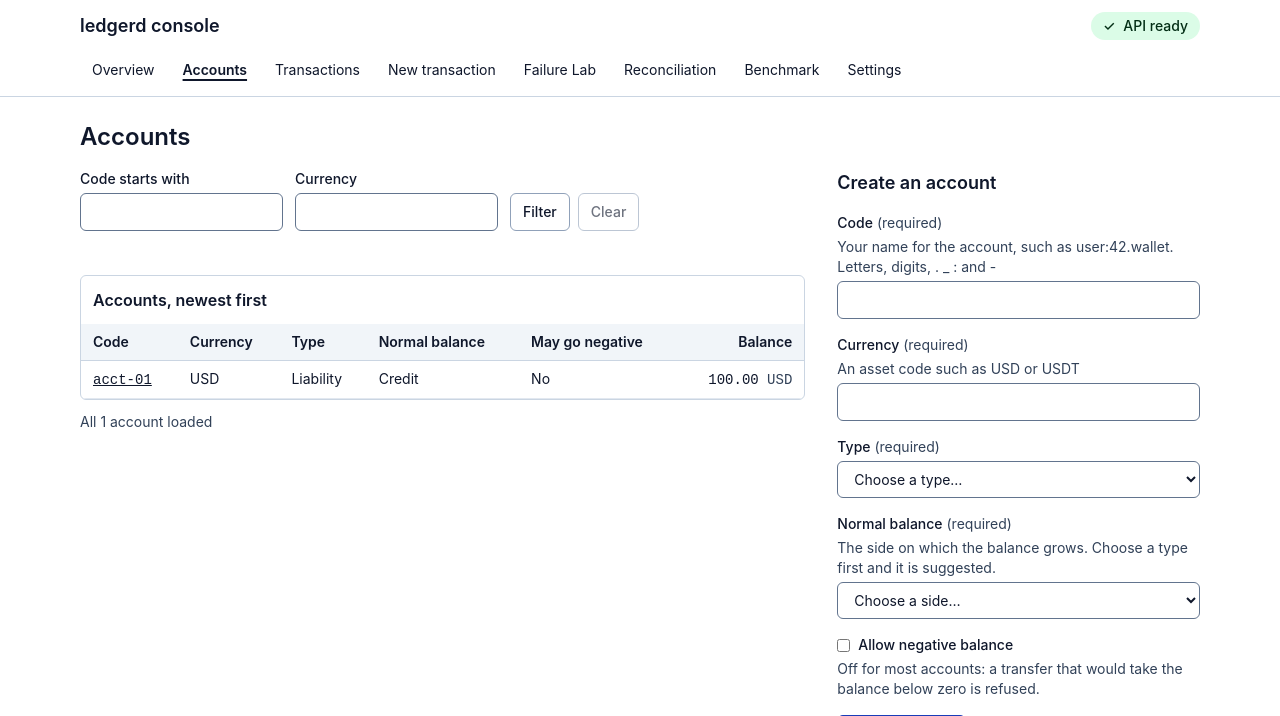
Test case: the account form › creating › sends exactly what was entered, then shows the account, and offers to open it
Expected: the heading "Accounts" is shown, [80, 121, 190, 153]
Expected: the table is shown, [81, 276, 804, 399]
Type "user:42.wallet" into the field labelled "Code (required)" at (1019, 300), box [837, 281, 1200, 319]
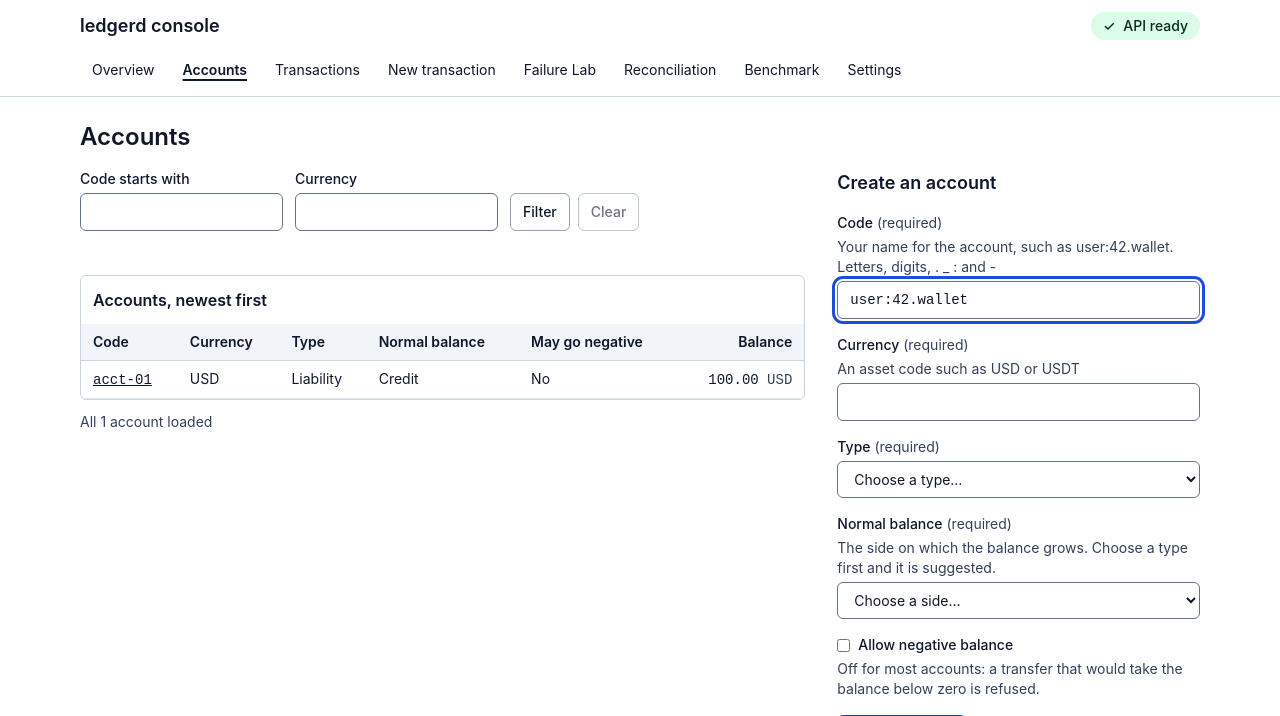
Type "usd" into the field labelled "Currency (required)" at (1019, 402), box [837, 383, 1200, 421]
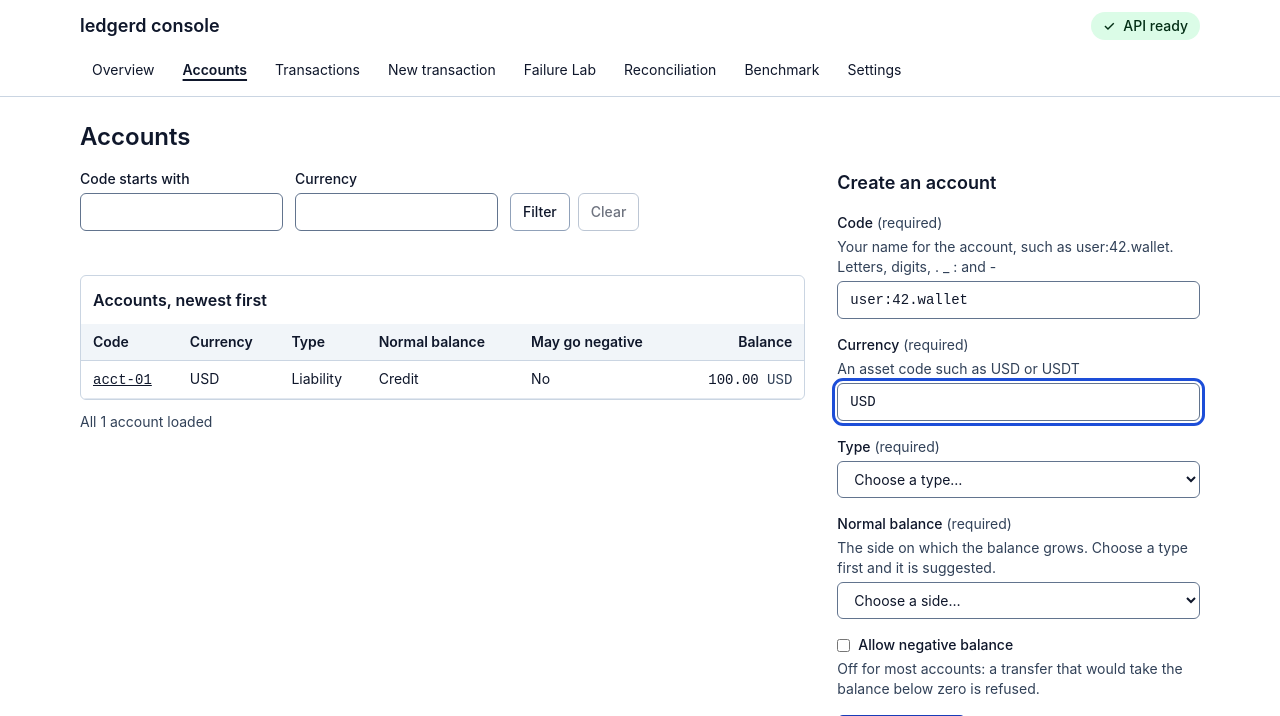
Select "Liability" in the dropdown labelled "Type (required)" at (1019, 480), box [837, 461, 1200, 498]
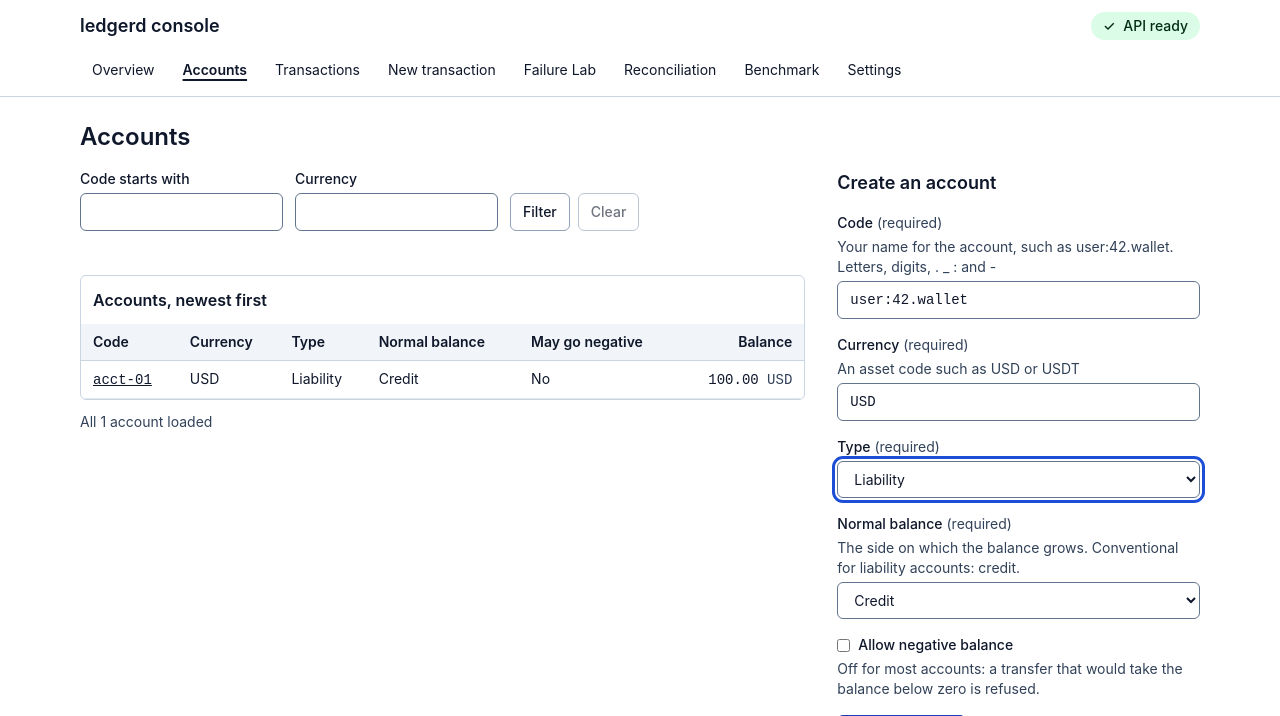
Click the checkbox labelled "Allow negative balance" at (844, 645), box [837, 638, 850, 652]
(page scrolled)
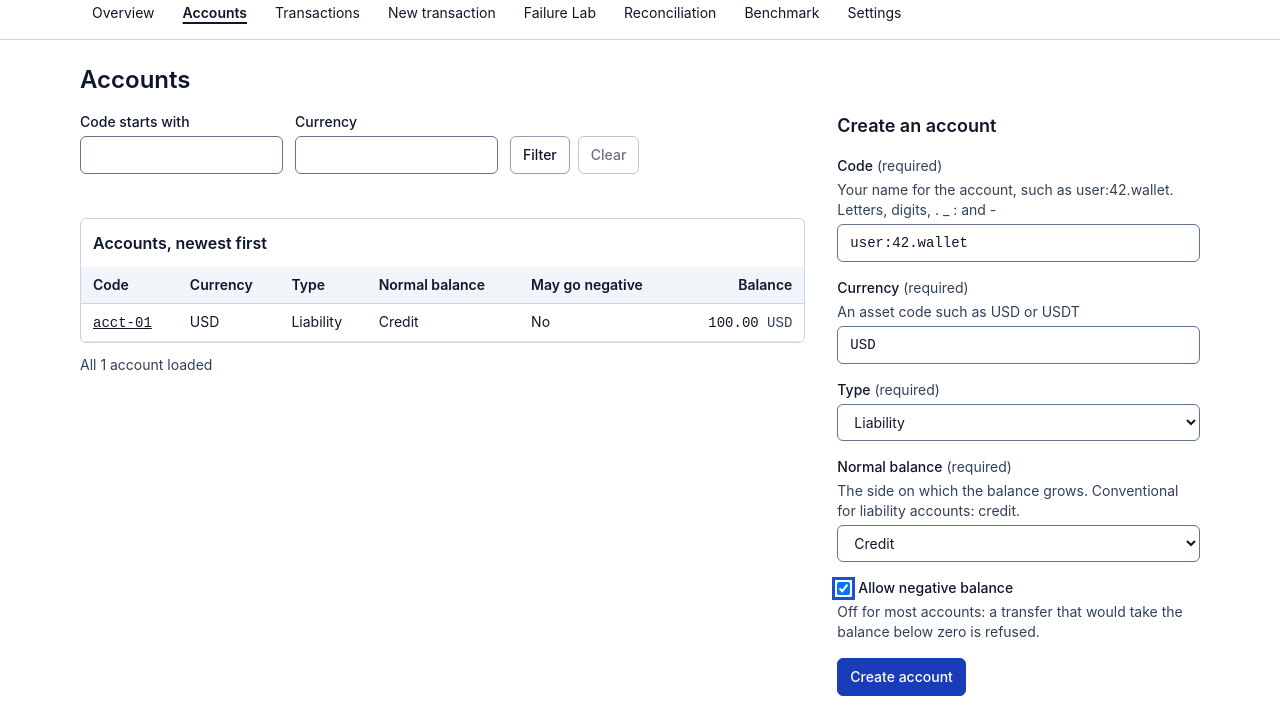
Click the button "Create account" at (902, 677), box [837, 658, 966, 696]
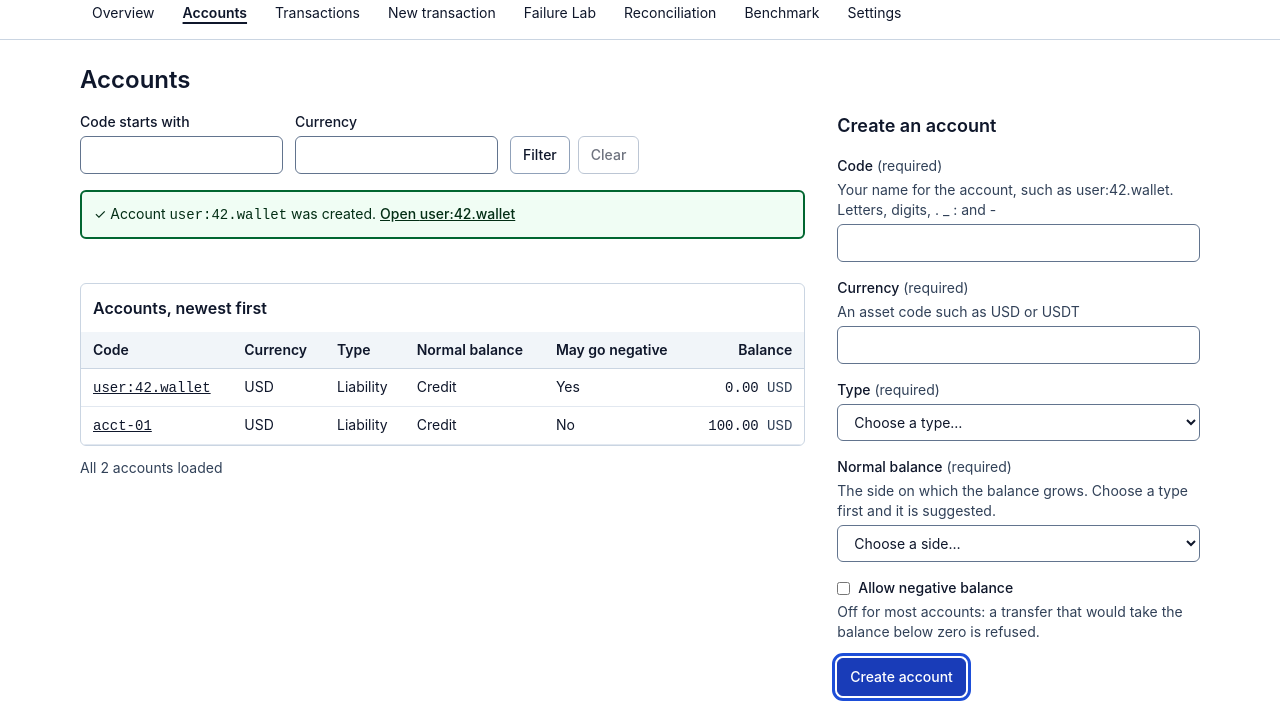
Expected: the link "Open user:42.wallet" is shown, [380, 205, 515, 222]
Expected: the field labelled "Code (required)" is empty, [837, 224, 1200, 262]
